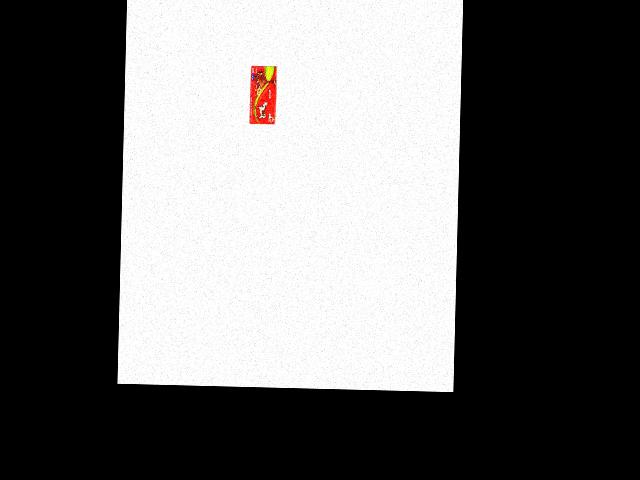chocolate: (243, 64, 278, 128)
